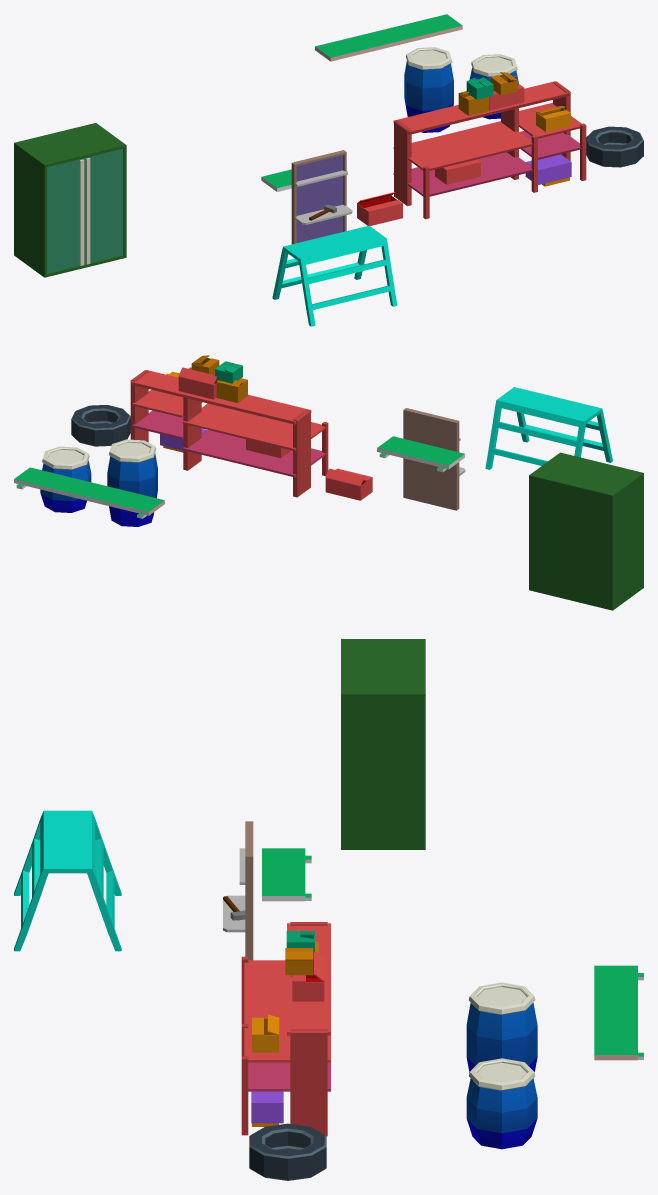
File: Level13.fbx
The picture shows the model from 3 angles, top to bottom: view 1: azimuth 30°, elevation 25°; view 2: azimuth 150°, elevation 25°; view 3: azimuth 270°, elevation 25°; orthographic projection. The views are drawn at different scales.
Visible parts, largest first — view 1: Cabinet3, Box12, Stool_Stand1, Tool_Stand3, Oil_Drum, Stand10, Tire, Box8, Oil_Drum1, Box5, Box7, Box11 (+5 smaller); view 2: Cabinet3, Box12, Stool_Stand1, Tool_Stand3, Oil_Drum, Stand10, Tire, Oil_Drum1, Stand9, Box8, Box6, Box10 (+3 smaller); view 3: Cabinet3, Box12, Stool_Stand1, Oil_Drum1, Oil_Drum, Stand10, Tire, Stand9, Tool_Stand3, Box6, Box5, Box11 (+1 smaller).
Part boxes in pixels (bbox=[...]): Cabinet3: bbox=[14, 123, 126, 277]; Box12: bbox=[393, 81, 586, 219]; Stool_Stand1: bbox=[272, 225, 397, 326]; Tool_Stand3: bbox=[291, 150, 352, 244]; Oil_Drum: bbox=[404, 47, 453, 132]; Stand10: bbox=[315, 14, 462, 61]; Tire: bbox=[586, 126, 643, 167]; Box8: bbox=[357, 192, 402, 225]; Oil_Drum1: bbox=[469, 54, 518, 119]; Box5: bbox=[525, 154, 571, 184]; Box7: bbox=[435, 159, 480, 184]; Box11: bbox=[536, 106, 570, 131]; Cabinet3: bbox=[529, 452, 643, 610]; Box12: bbox=[130, 370, 328, 497]; Stool_Stand1: bbox=[485, 387, 612, 469]; Tool_Stand3: bbox=[403, 408, 465, 510]; Oil_Drum: bbox=[107, 439, 157, 526]; Stand10: bbox=[14, 467, 164, 518]; Tire: bbox=[71, 405, 130, 446]; Oil_Drum1: bbox=[40, 446, 91, 512]; Stand9: bbox=[377, 436, 464, 472]; Box8: bbox=[325, 468, 372, 500]; Box6: bbox=[178, 367, 217, 399]; Box10: bbox=[216, 378, 247, 402]; Cabinet3: bbox=[341, 639, 425, 849]; Box12: bbox=[241, 922, 330, 1136]; Stool_Stand1: bbox=[14, 810, 121, 951]; Oil_Drum1: bbox=[466, 1058, 537, 1149]; Oil_Drum: bbox=[466, 982, 537, 1072]; Stand10: bbox=[594, 965, 643, 1060]; Tire: bbox=[249, 1123, 326, 1180]; Stand9: bbox=[262, 848, 311, 901]; Tool_Stand3: bbox=[223, 821, 253, 960]; Box6: bbox=[292, 951, 324, 1001]; Box5: bbox=[251, 1091, 283, 1123]; Box11: bbox=[252, 1014, 279, 1052].
Bounding box in the file's own units: 21.18 × 3.96 × 14.49.
